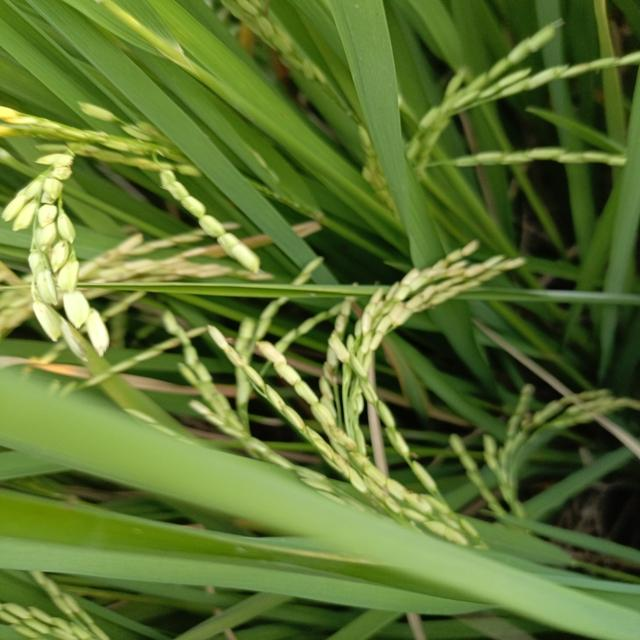Brown spot: (22, 346, 199, 407), (382, 337, 446, 421)
